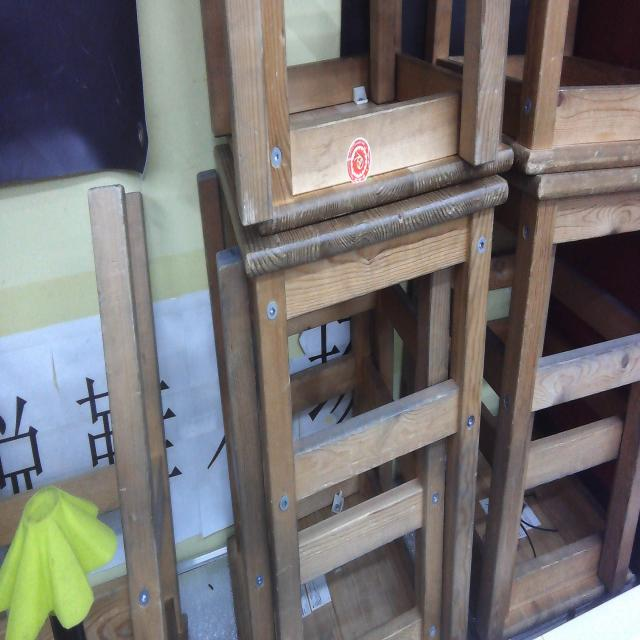Yellow-Stake-Head: (0, 484, 118, 640)
